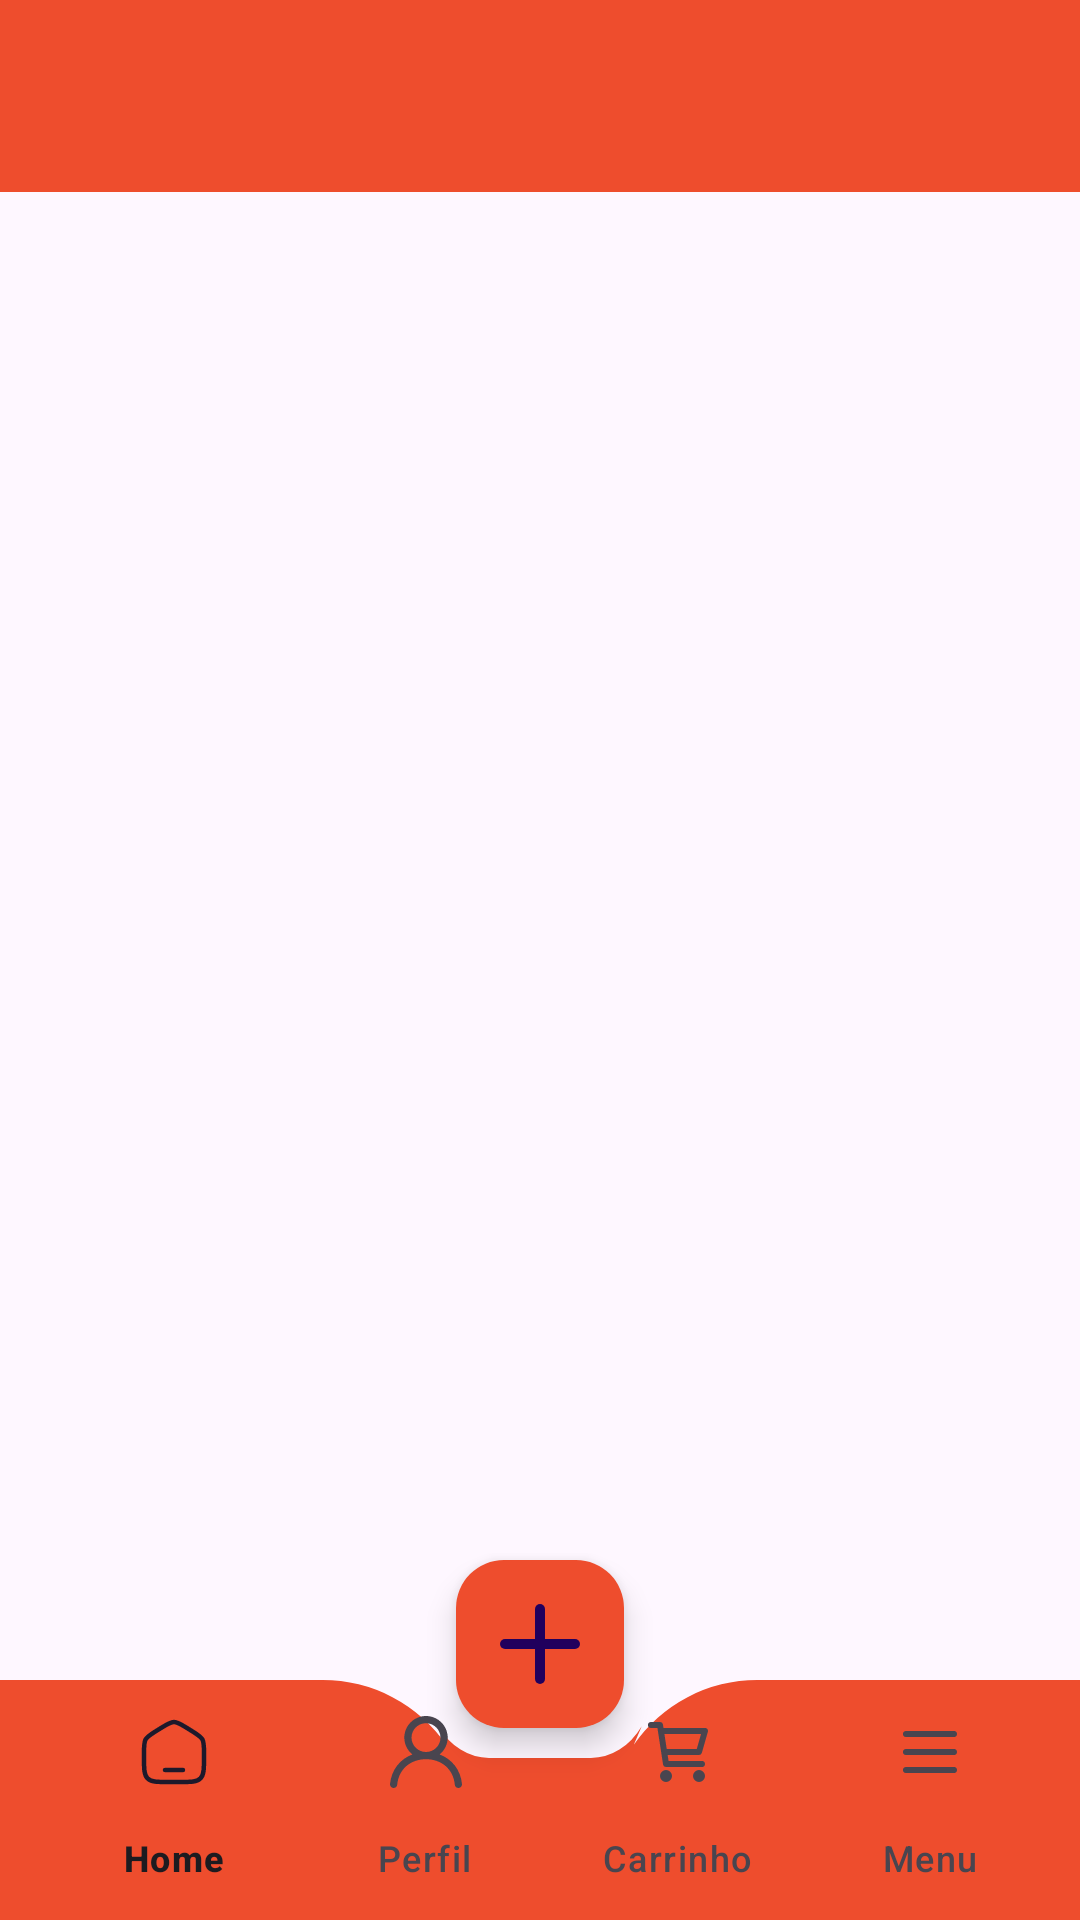

Named icons in this screenshot (1080 x 1920) and their centers, (x,y):
Adicionar: (540,1680)
